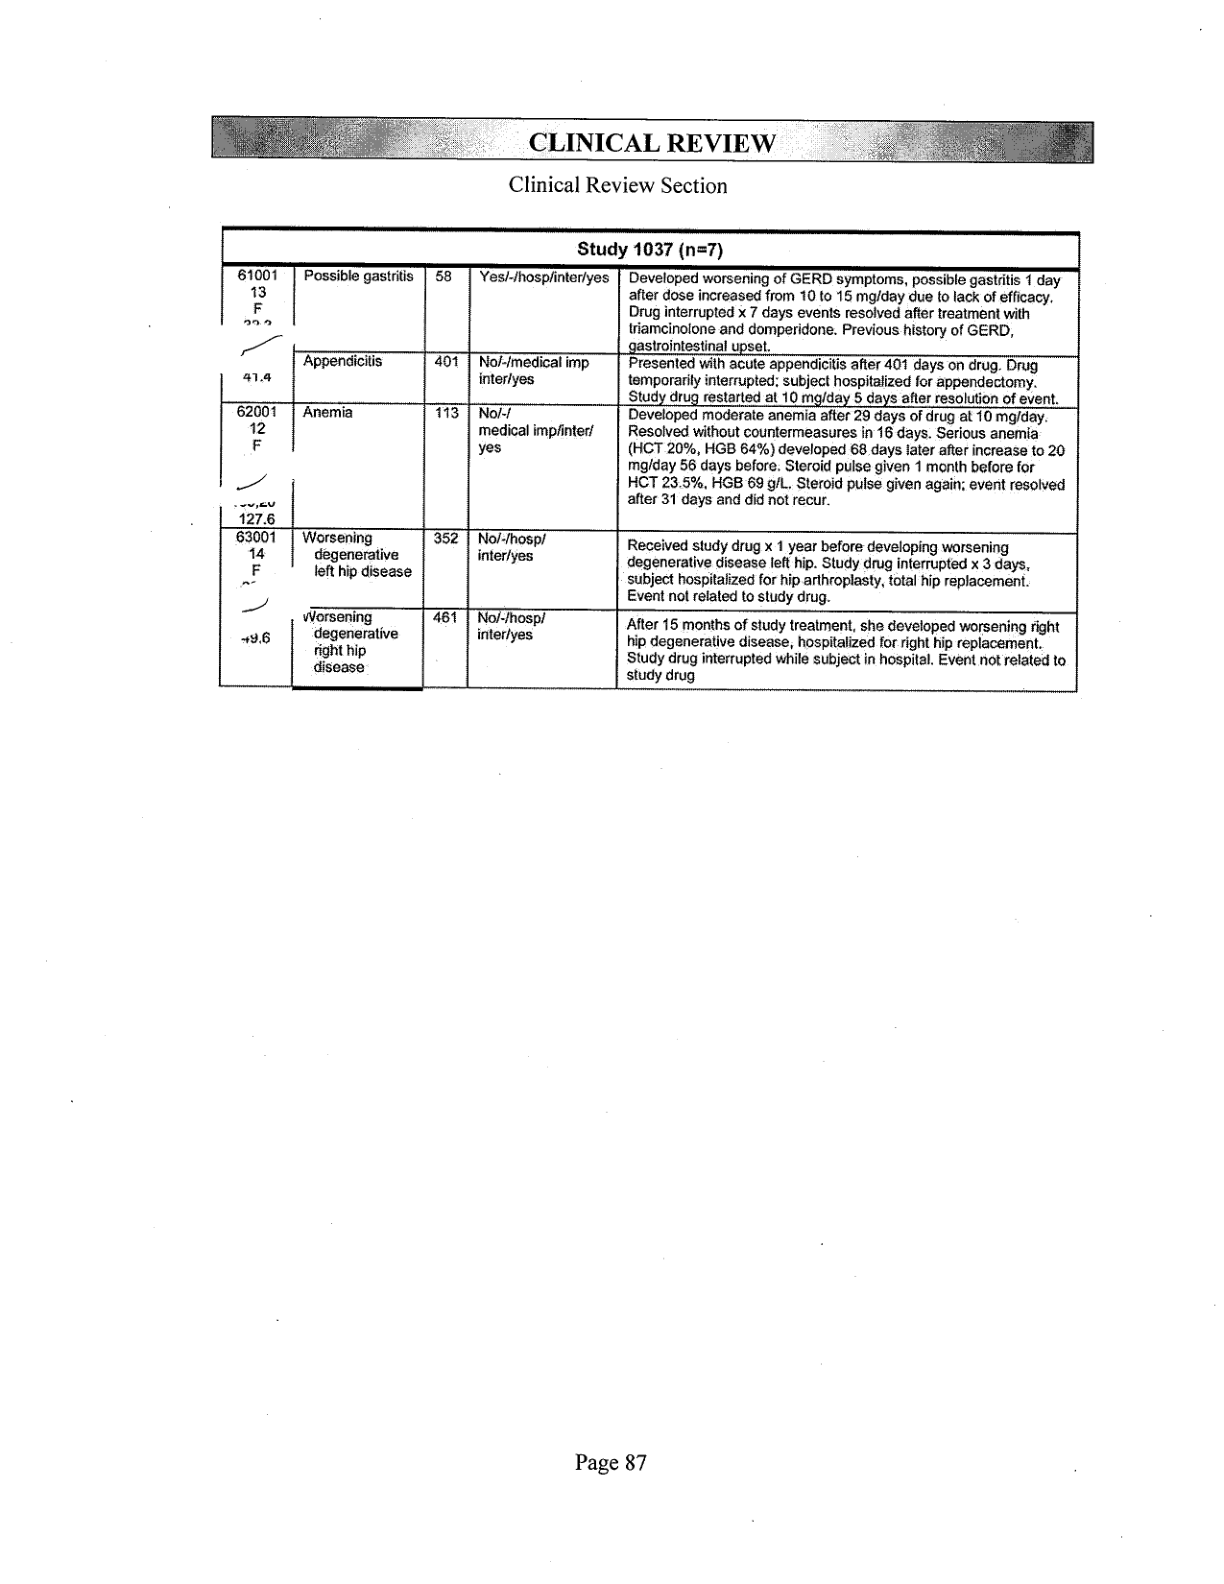partial_lined_merged_cells: (216, 222, 1080, 694)
